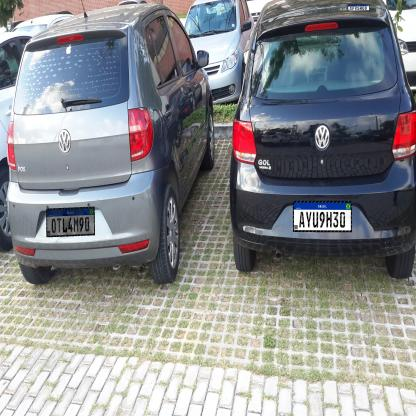PlacaM: (293, 201, 352, 232), (46, 207, 95, 237), (348, 5, 370, 11)
